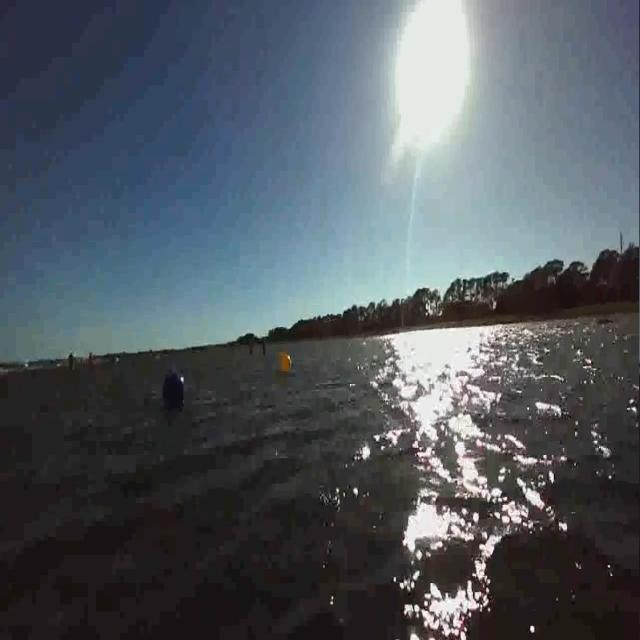blue-buoy: (162, 367, 184, 401)
yellow-buoy: (279, 350, 292, 373)
